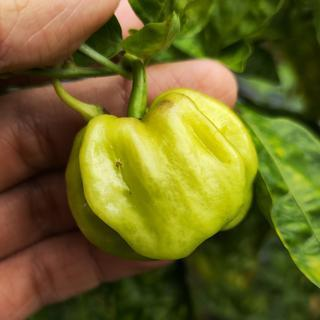Grade-B: (58, 87, 265, 264)
